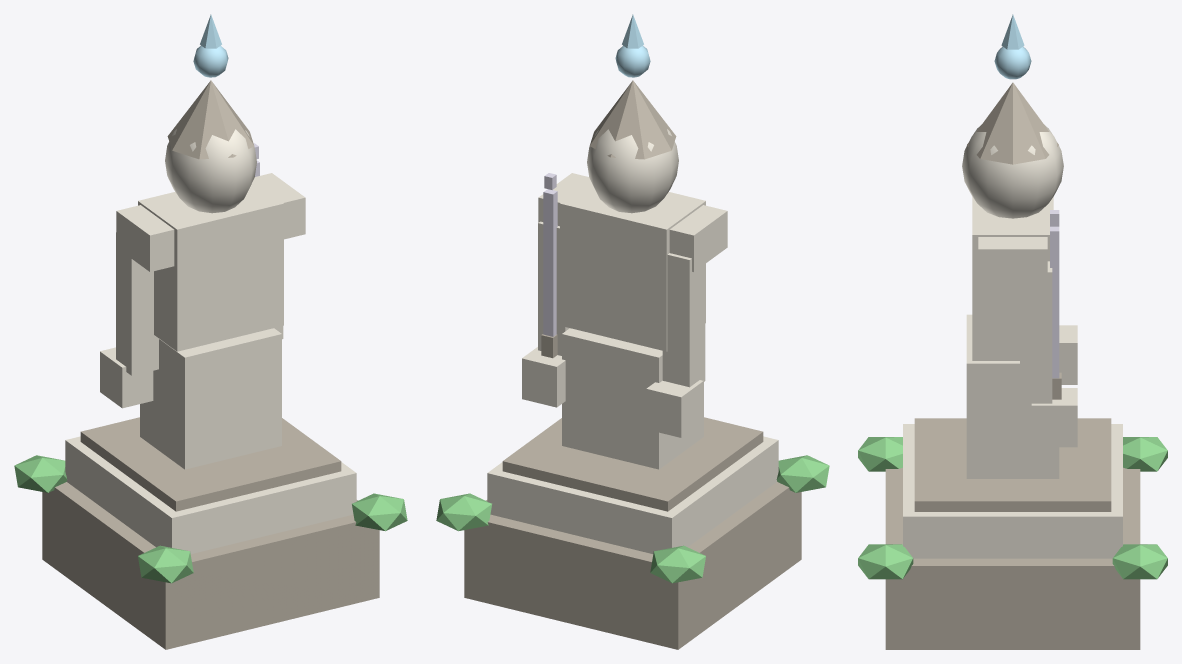
File: statue.glb
3 renders of one model, left to right at view 1: azimuth 30°, elevation 25°; view 2: azimuth 150°, elevation 25°; view 3: azimuth 270°, elevation 25°, orthographic. The views are drawn at different scales.
Parts seen in each view (by area): view 1: base, torso, legs, base2, base3, head, arm_l, hat, shoulder_l, hand_l, moss.002, moss.003 (+3 smaller); view 2: base, torso, base2, legs, base3, head, arm_l, hat, hand_l, shoulder_l, hand_r, sword_blade (+6 smaller); view 3: base, base3, base2, legs, torso, head, arm_r, hat, shoulder_r, hand_r, moss.001, moss.003 (+6 smaller).
Boxes of the visible parts, <box> form: base: <box>42,482,379,649</box>; torso: <box>138,181,283,351</box>; legs: <box>140,328,281,469</box>; base2: <box>65,436,356,553</box>; base3: <box>80,417,341,511</box>; head: <box>165,129,256,213</box>; arm_l: <box>116,232,158,375</box>; hat: <box>167,80,254,159</box>; shoulder_l: <box>116,205,174,271</box>; hand_l: <box>100,347,153,408</box>; moss.002: <box>138,545,193,583</box>; moss.003: <box>352,493,407,531</box>; base: <box>464,482,801,649</box>; torso: <box>560,181,705,351</box>; base2: <box>487,436,778,553</box>; legs: <box>562,328,703,469</box>; base3: <box>502,417,763,511</box>; head: <box>587,129,678,213</box>; arm_l: <box>662,253,705,387</box>; hat: <box>589,80,676,159</box>; hand_l: <box>646,380,703,437</box>; shoulder_l: <box>669,205,727,271</box>; hand_r: <box>522,347,565,407</box>; sword_blade: <box>543,189,557,336</box>; base: <box>885,467,1140,649</box>; base3: <box>914,418,1111,511</box>; base2: <box>903,424,1122,558</box>; legs: <box>966,314,1059,478</box>; torso: <box>972,197,1053,360</box>; head: <box>962,124,1063,218</box>; arm_r: <box>1020,261,1052,408</box>; hat: <box>967,82,1058,164</box>; shoulder_r: <box>978,237,1047,286</box>; hand_r: <box>1031,388,1077,447</box>; moss.001: <box>1112,544,1167,579</box>; moss.003: <box>858,544,913,579</box>.
Bounding box in the file's own units: 1.35 × 2.78 × 1.34.
